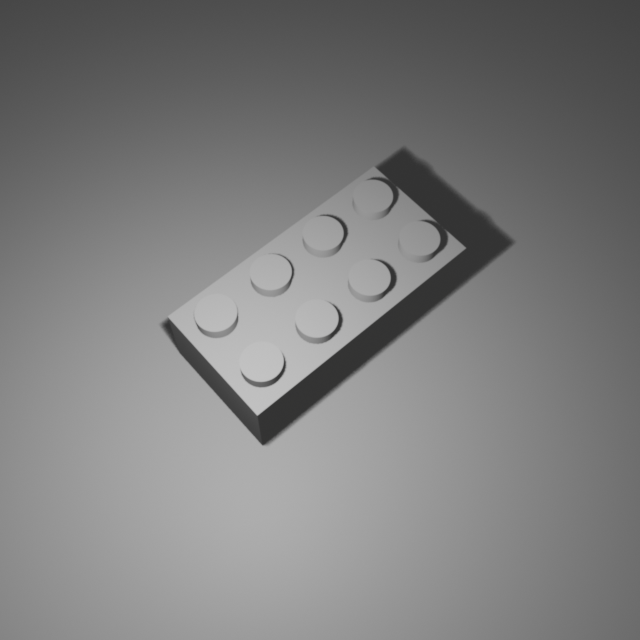lego_2x4: (165, 158, 468, 446)
